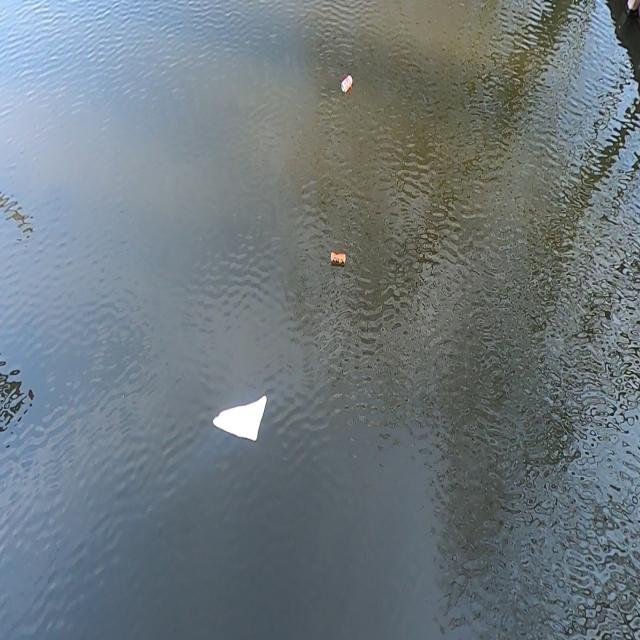Autre plastique: (209, 388, 271, 452)
Non plastique: (327, 246, 352, 274), (339, 70, 356, 101)
